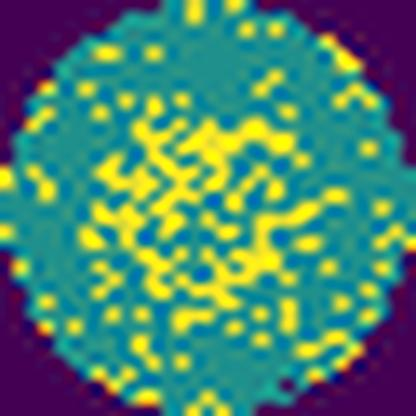Donut: (79, 83, 342, 341)
